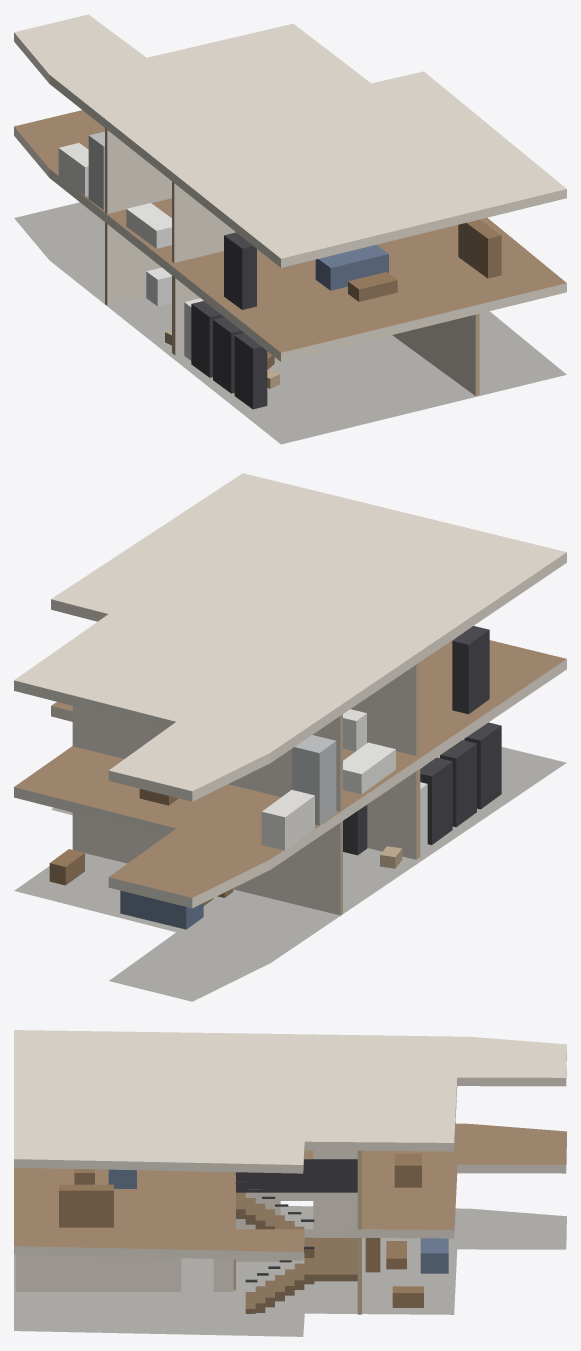
File: interior.glb
The picture shows the model from 3 angles, top to bottom: view 1: azimuth 30°, elevation 25°; view 2: azimuth 150°, elevation 25°; view 3: azimuth 270°, elevation 25°; orthographic projection. The views are drawn at different scales.
Parts seen in each view (by area): view 1: slabs, partitions, coarse-s1, coarse-s0; view 2: slabs, partitions, coarse-s1, coarse-s0; view 3: slabs, partitions, stair, coarse-s1, coarse-s0.
Part boxes in pixels (bbox=[...]): slabs: bbox=[14, 14, 566, 444]; partitions: bbox=[105, 128, 479, 395]; coarse-s1: bbox=[58, 131, 501, 309]; coarse-s0: bbox=[146, 267, 279, 409]; slabs: bbox=[14, 473, 566, 1001]; partitions: bbox=[72, 663, 420, 916]; coarse-s1: bbox=[139, 626, 489, 850]; coarse-s0: bbox=[49, 722, 501, 929]; slabs: bbox=[14, 1030, 566, 1336]; partitions: bbox=[15, 1150, 361, 1314]; stair: bbox=[235, 1159, 357, 1313]; coarse-s1: bbox=[59, 1154, 421, 1227]; coarse-s0: bbox=[365, 1238, 448, 1307].
Bounding box in the file's own units: 8.81 × 5.25 × 15.25.
